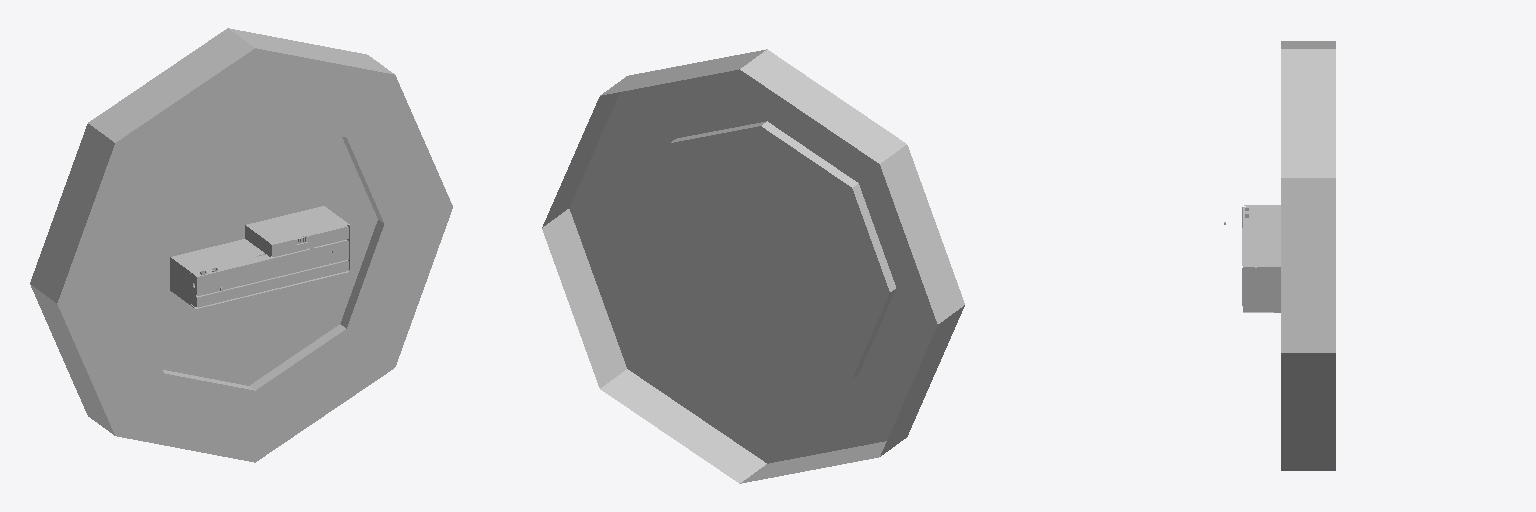
Rendered from tutorial_0000_dec.obj.
The picture shows the model from 3 angles: view 1: azimuth 30°, elevation 25°; view 2: azimuth 150°, elevation 25°; view 3: azimuth 270°, elevation 25°; orthographic projection.
Parts seen in each view (by area): view 1: Cube.008_Cube.006; view 2: Cube.008_Cube.006; view 3: Cube.008_Cube.006.
Boxes of the visible parts, x1=… form: Cube.008_Cube.006: x1=30, y1=28, x2=452, y2=462; Cube.008_Cube.006: x1=542, y1=49, x2=964, y2=483; Cube.008_Cube.006: x1=1224, y1=41, x2=1335, y2=470.
Size of the model in its own units: 2347 by 2347 by 579.